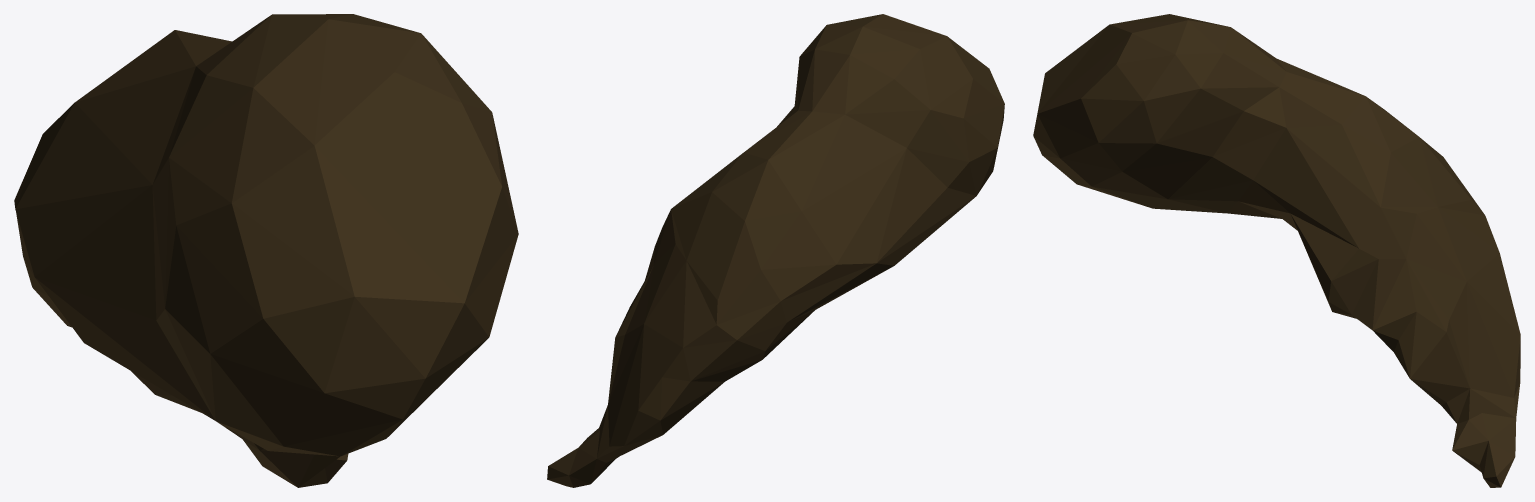
Rendered from ant-mandible-left.dae.
3 renders of one model, left to right at view 1: azimuth 30°, elevation 25°; view 2: azimuth 150°, elevation 25°; view 3: azimuth 270°, elevation 25°, orthographic. The views are drawn at different scales.
Visible parts, largest first — view 1: ant-mandible-left; view 2: ant-mandible-left; view 3: ant-mandible-left.
Part boxes in pixels (x1,y1,x2,y2): ant-mandible-left: [14, 14, 518, 487]; ant-mandible-left: [547, 14, 1004, 487]; ant-mandible-left: [1033, 14, 1520, 487].
Size of the model in its own units: 1.35 by 2.15 by 1.91.
